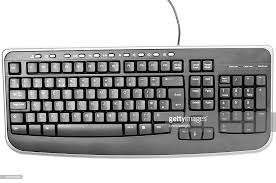keyboard: (6, 47, 276, 152)
